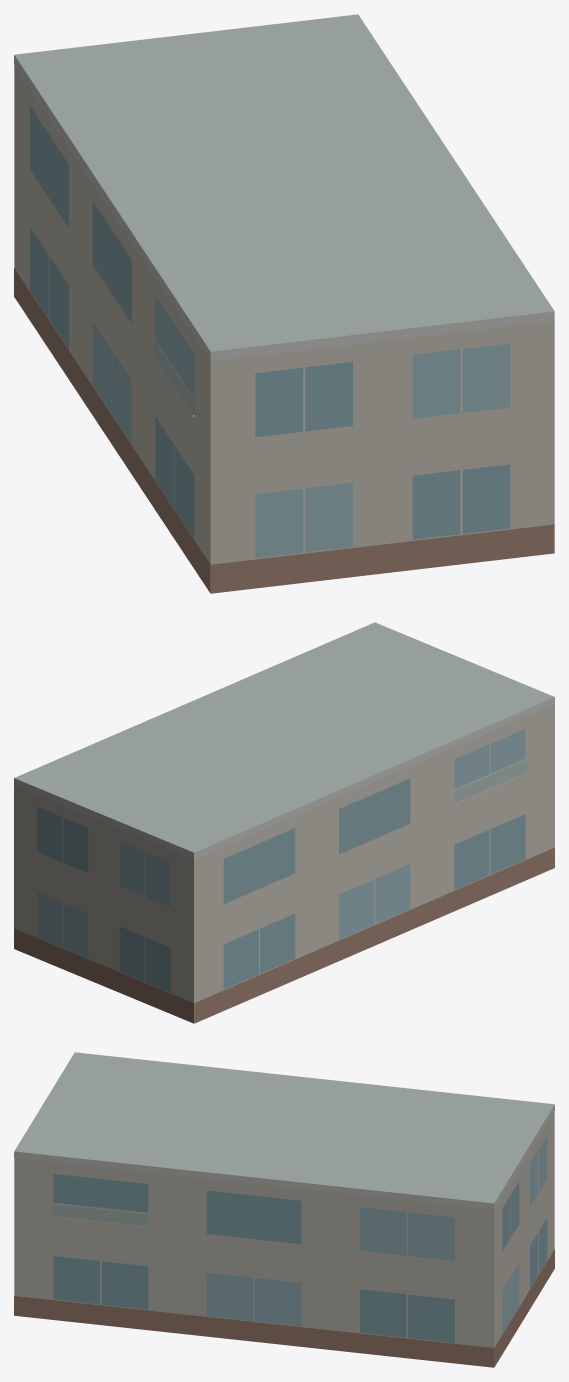
Rendered from survey-upis-32831625.glb.
3 views of the same model, one above another, from view 1: azimuth 30°, elevation 25°; view 2: azimuth 150°, elevation 25°; view 3: azimuth 270°, elevation 25° (orthographic). The views are drawn at different scales.
Parts seen in each view (by area): view 1: survey-upis-32831625.tmp; view 2: survey-upis-32831625.tmp; view 3: survey-upis-32831625.tmp.
Part boxes in pixels (x1,y1,x2,y2): survey-upis-32831625.tmp: (14,14,554,593); survey-upis-32831625.tmp: (14,622,554,1023); survey-upis-32831625.tmp: (14,1052,554,1367).
Size of the model in its own units: 12.06 by 6.1 by 18.21.
